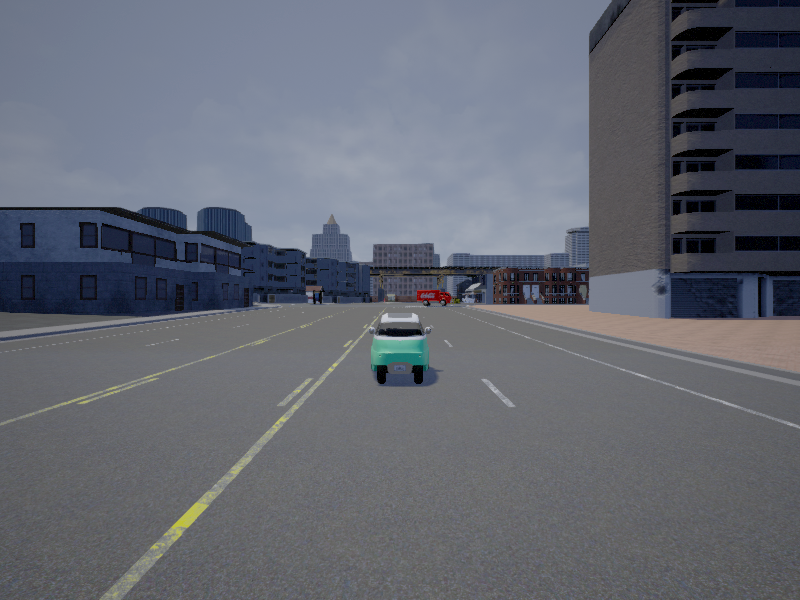Benign: (370, 313, 432, 385), (419, 289, 453, 308)
